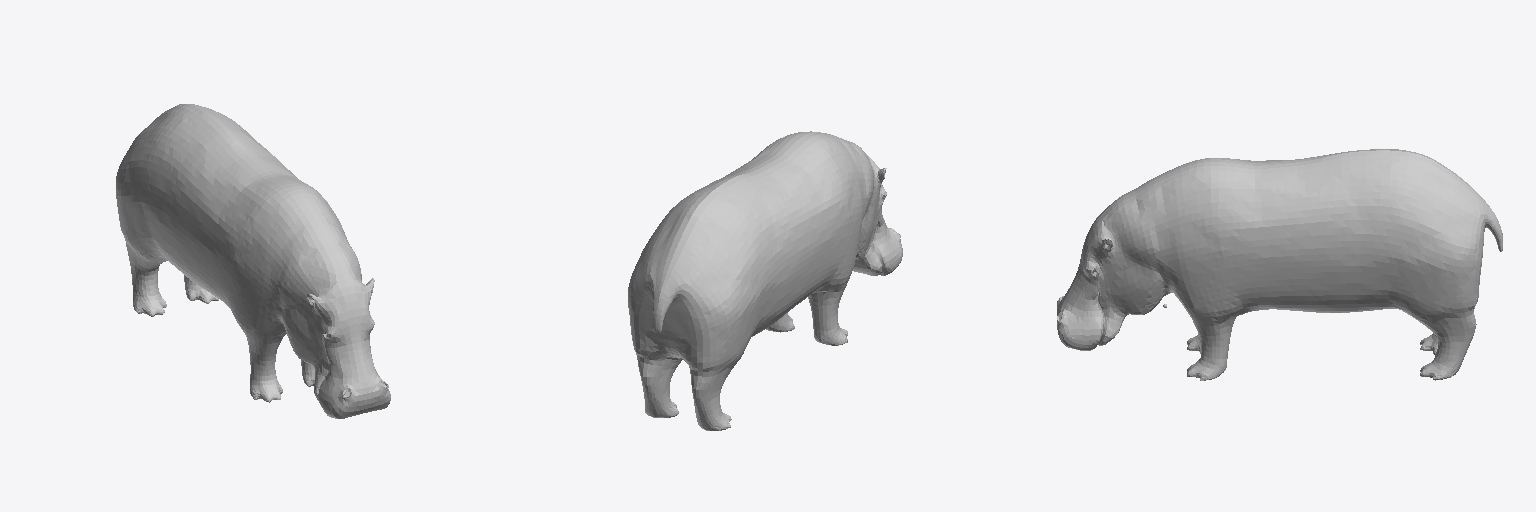
Rendered from hipp.obj.
3 views of the same model, side by side, from view 1: azimuth 30°, elevation 25°; view 2: azimuth 150°, elevation 25°; view 3: azimuth 270°, elevation 25° (orthographic).
Parts seen in each view (by area): view 1: Hippo; view 2: Hippo; view 3: Hippo.
Boxes of the visible parts, box(x1,y1,x2,y2) form: Hippo: box(116, 104, 390, 418); Hippo: box(628, 131, 902, 430); Hippo: box(1057, 149, 1502, 380).
Bounding box in the file's own units: 1.37 × 2.52 × 4.83.